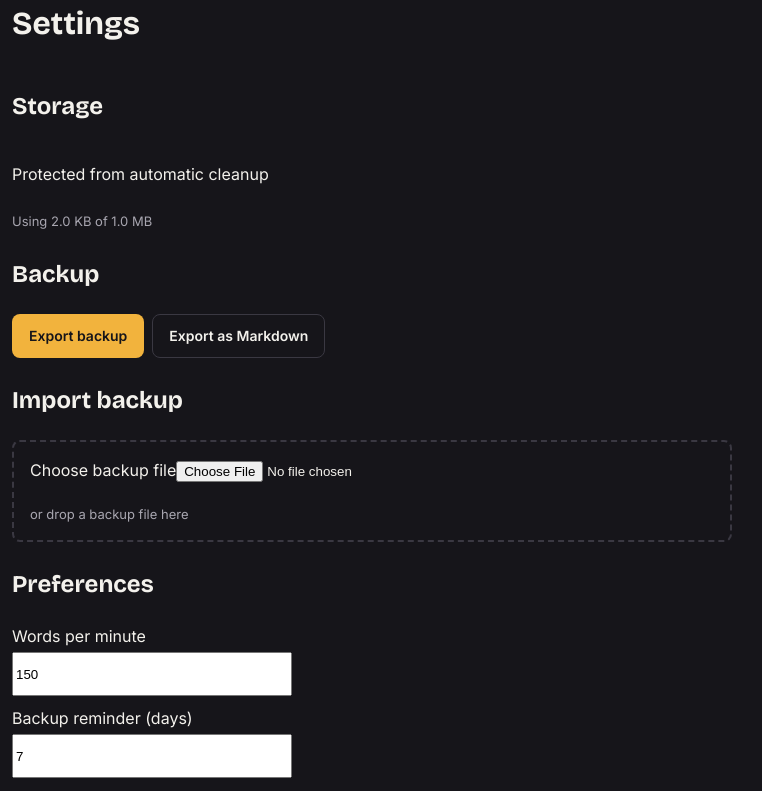
Test: SettingsPage export › exports markdown
Click the button "Export as Markdown" at coordinates (239, 336), box [152, 314, 325, 358]
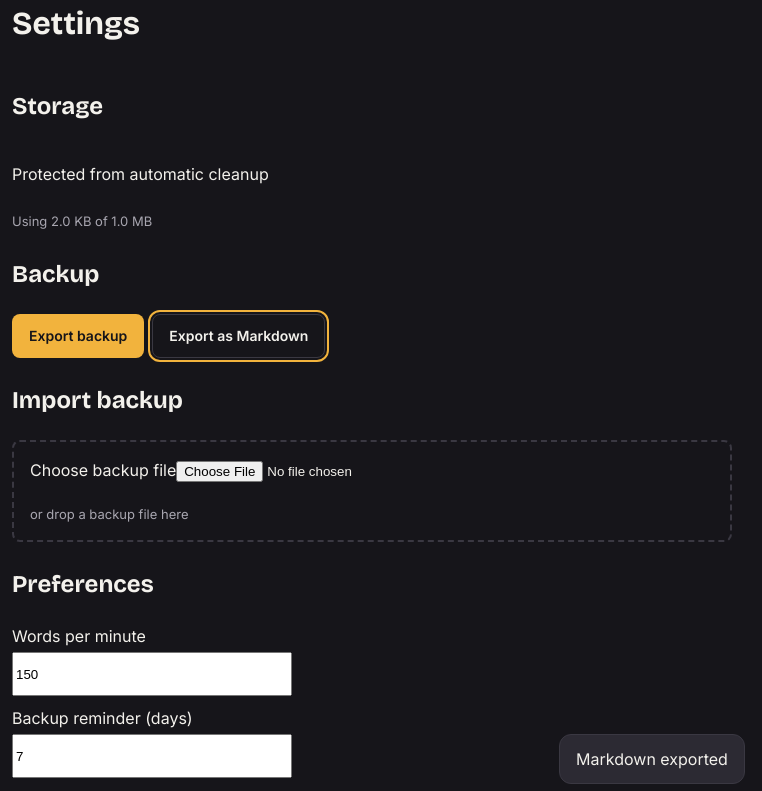
expect the text "Markdown exported" is shown: met, box [559, 734, 745, 784]
